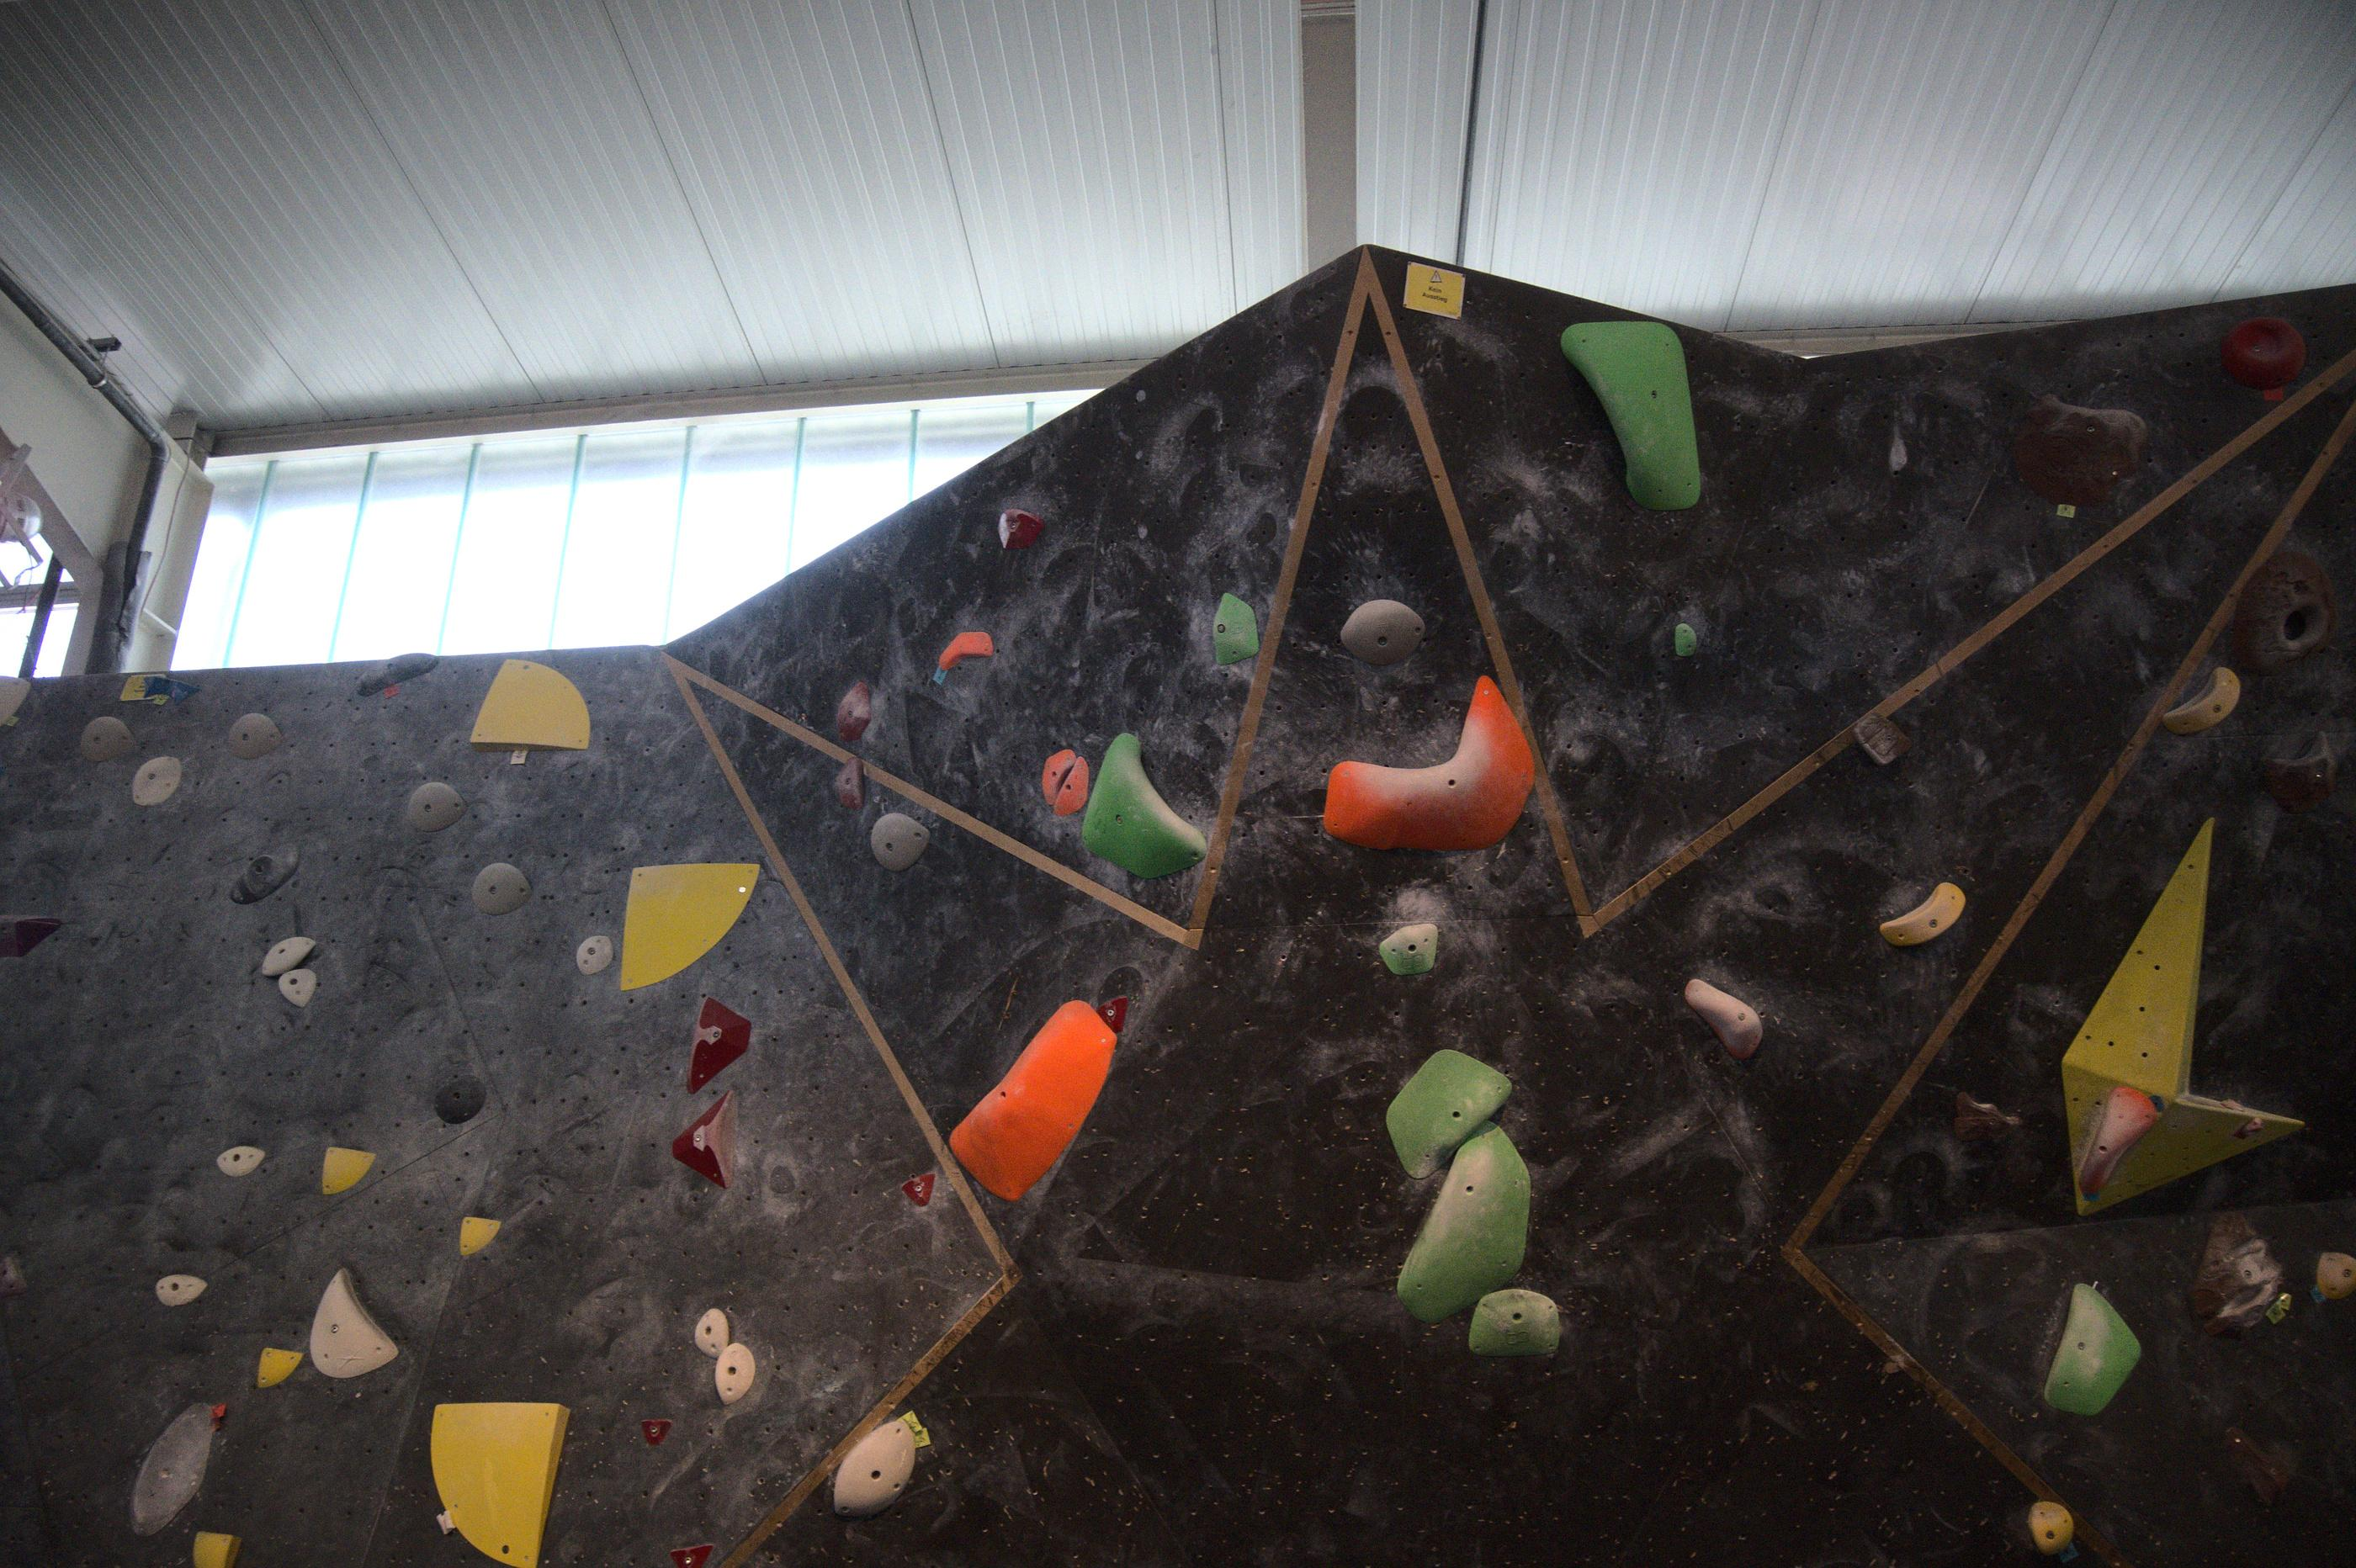Climbing-Holds: (938, 992, 1146, 1211), (1390, 1111, 1556, 1342), (404, 1379, 571, 1568), (1560, 308, 1705, 521), (1045, 726, 1213, 908), (1360, 1027, 1523, 1181), (2156, 1206, 2305, 1354), (2001, 390, 2153, 525), (2027, 1279, 2158, 1431), (112, 1388, 235, 1547), (621, 863, 760, 989), (814, 1403, 940, 1535), (278, 1267, 401, 1396), (2050, 1074, 2165, 1200), (469, 660, 590, 749), (1677, 961, 1775, 1066), (2207, 1409, 2307, 1507), (1334, 584, 1432, 679), (2253, 731, 2351, 822), (1873, 875, 1974, 961), (2156, 661, 2251, 749), (681, 996, 756, 1102), (221, 835, 306, 917), (1465, 1286, 1563, 1358), (669, 1087, 739, 1186), (2221, 317, 2307, 392), (858, 803, 935, 880), (1941, 1088, 2025, 1158), (350, 640, 443, 700), (397, 770, 471, 843), (1848, 705, 1913, 772), (427, 1067, 492, 1134), (466, 857, 534, 919), (1045, 754, 1104, 824), (1208, 590, 1262, 665), (826, 677, 882, 745), (252, 928, 322, 982), (221, 705, 284, 765), (1026, 738, 1080, 807), (1376, 924, 1439, 977), (2022, 1500, 2078, 1557), (317, 1146, 375, 1200), (126, 754, 186, 807), (75, 714, 137, 765), (931, 625, 996, 670), (0, 915, 60, 957), (688, 1305, 733, 1360), (996, 504, 1047, 549), (716, 1344, 754, 1403), (830, 754, 868, 810), (256, 1346, 303, 1391), (2312, 1251, 2356, 1298), (1096, 992, 1139, 1038), (457, 1214, 501, 1260), (215, 1143, 268, 1178), (572, 933, 614, 975), (156, 1274, 207, 1307), (194, 1533, 240, 1568), (900, 1167, 936, 1207), (278, 969, 317, 1006), (0, 677, 30, 724), (637, 1410, 672, 1447), (2228, 1115, 2267, 1144), (670, 1543, 714, 1568), (0, 1255, 25, 1295), (1675, 623, 1696, 654)
